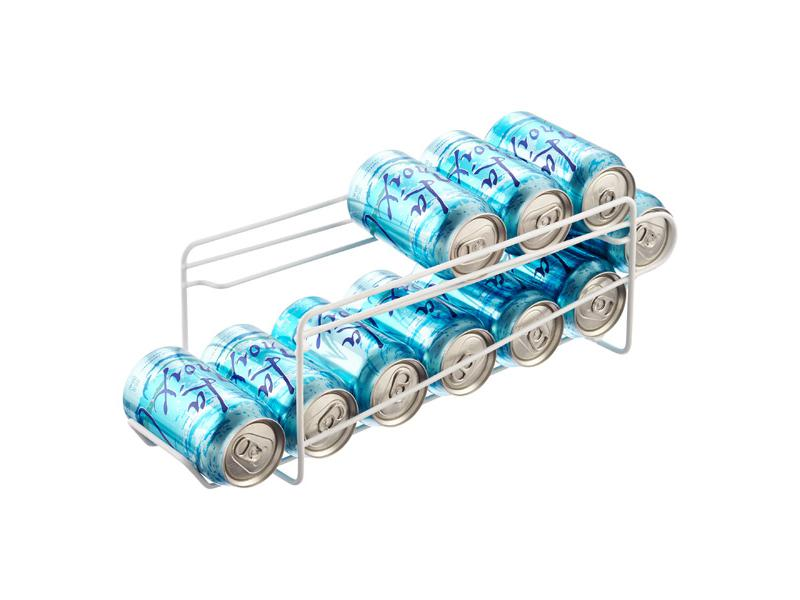can: (195, 324, 384, 476), (121, 341, 298, 501), (351, 143, 511, 290), (273, 296, 435, 433), (340, 268, 507, 400), (422, 124, 582, 252), (485, 111, 639, 221), (559, 261, 631, 347), (603, 195, 675, 269), (507, 291, 572, 368)
